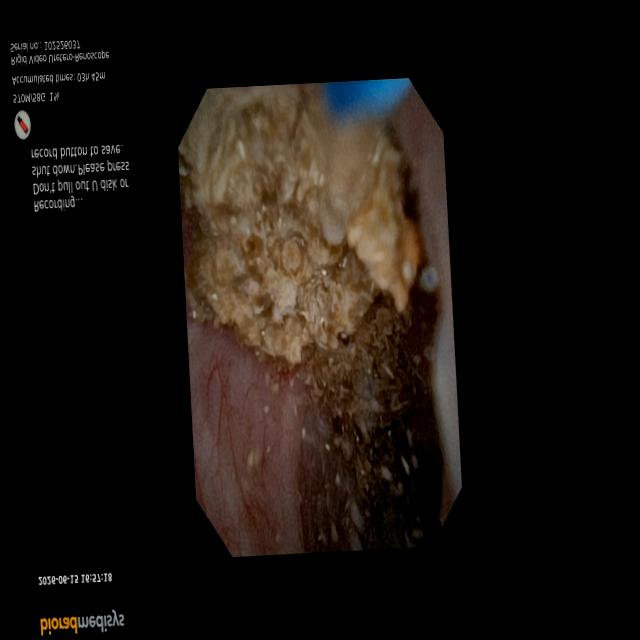laser-fibre: (324, 118, 381, 245)
stone-new: (179, 88, 420, 363)
